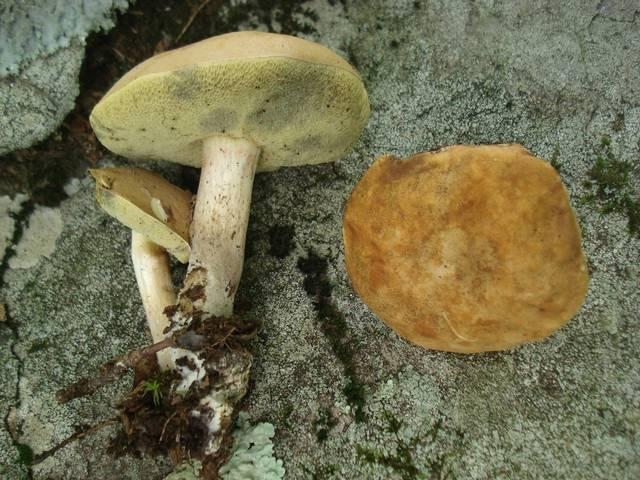Edible Mushroom: (87, 28, 371, 374), (345, 137, 587, 355)
